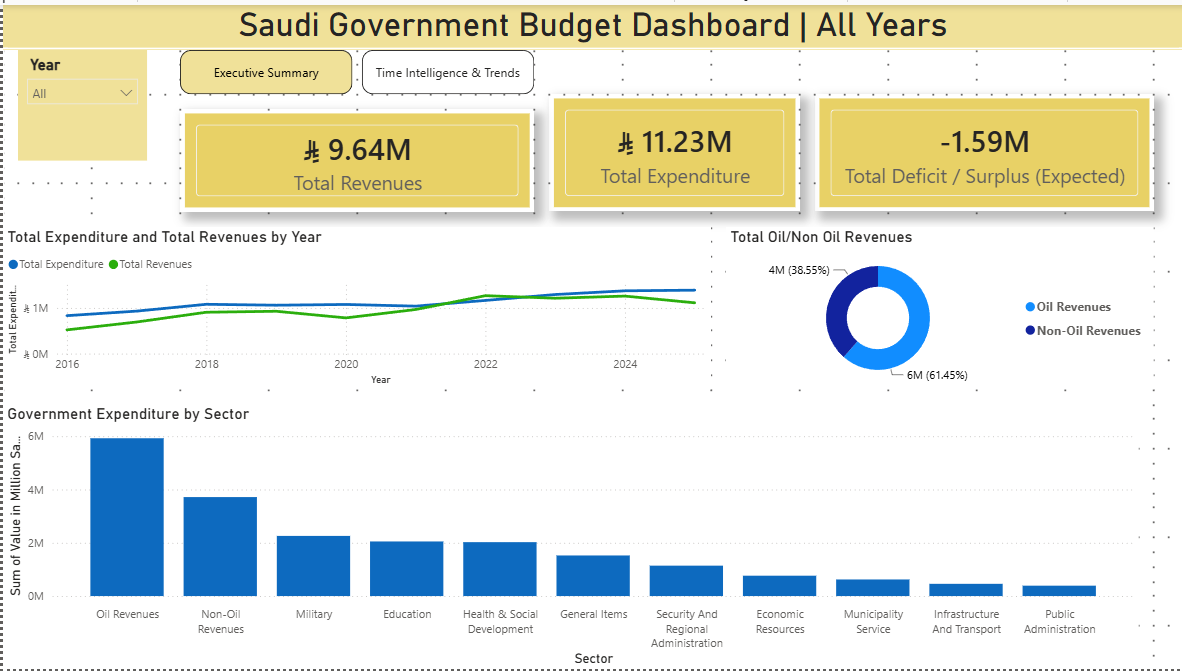

Layout of this report page (visuals, bound fields, positions):
{"tool":"powerbi","page":{"name":"Executive Summary","canvas":[1280,720],"ordinal":0},"visuals":[{"type":"textbox","box":[0,0,1280,48],"z":0},{"type":"slicer","fields":{"Values":["Calendar.Year"]},"box":[16,48,140,120],"z":1000},{"type":"cardVisual","fields":{"Data":["Calendar.Total Expenditure"]},"box":[592,96,272,128],"z":2000},{"type":"cardVisual","fields":{"Data":["Saudi_Gov_Finance.Total Revenue"]},"box":[192,112,384,112],"z":3000},{"type":"cardVisual","fields":{"Data":["Calendar.Total Deficit"]},"box":[880,96,368,128],"z":4000},{"type":"pageNavigator","box":[192,48,384,48],"z":5000},{"type":"lineChart","fields":{"Y":["Saudi_Gov_Finance.Total Expenditure","Saudi_Gov_Finance.Total Revenue"],"Category":["Calendar.Year"]},"box":[0,240,768,176],"z":6000},{"type":"columnChart","title":"Government Expenditure by Sector","fields":{"Y":["Sum(Saudi_Gov_Finance.Value in Million Saudi Riyals)"],"Category":["Saudi_Gov_Finance.Sector"]},"box":[0,432,1232,288],"z":7000},{"type":"donutChart","title":"Total  Oil/Non Oil Revenues","fields":{"Y":["Saudi_Gov_Finance.Total Amount"],"Category":["Saudi_Gov_Finance.Sector"]},"box":[784,240,464,176],"z":8000}]}

Visuals, with their boxes in screenshot pixels (x1, y1, x2, y2), scaled from the page's 1280x720 canvas onto the 1182x671 screenshot:
textbox: 0, 0, 1181, 45
slicer - Calendar.Year: 15, 45, 144, 157
cardVisual - Calendar.Total Expenditure: 547, 89, 798, 209
cardVisual - Saudi_Gov_Finance.Total Revenue: 177, 104, 532, 209
cardVisual - Calendar.Total Deficit: 813, 89, 1152, 209
pageNavigator: 177, 45, 532, 89
lineChart - Saudi_Gov_Finance.Total Expenditure x Saudi_Gov_Finance.Total Revenue: 0, 224, 709, 388
"Government Expenditure by Sector" columnChart: 0, 403, 1138, 670
"Total  Oil/Non Oil Revenues" donutChart: 724, 224, 1152, 388
